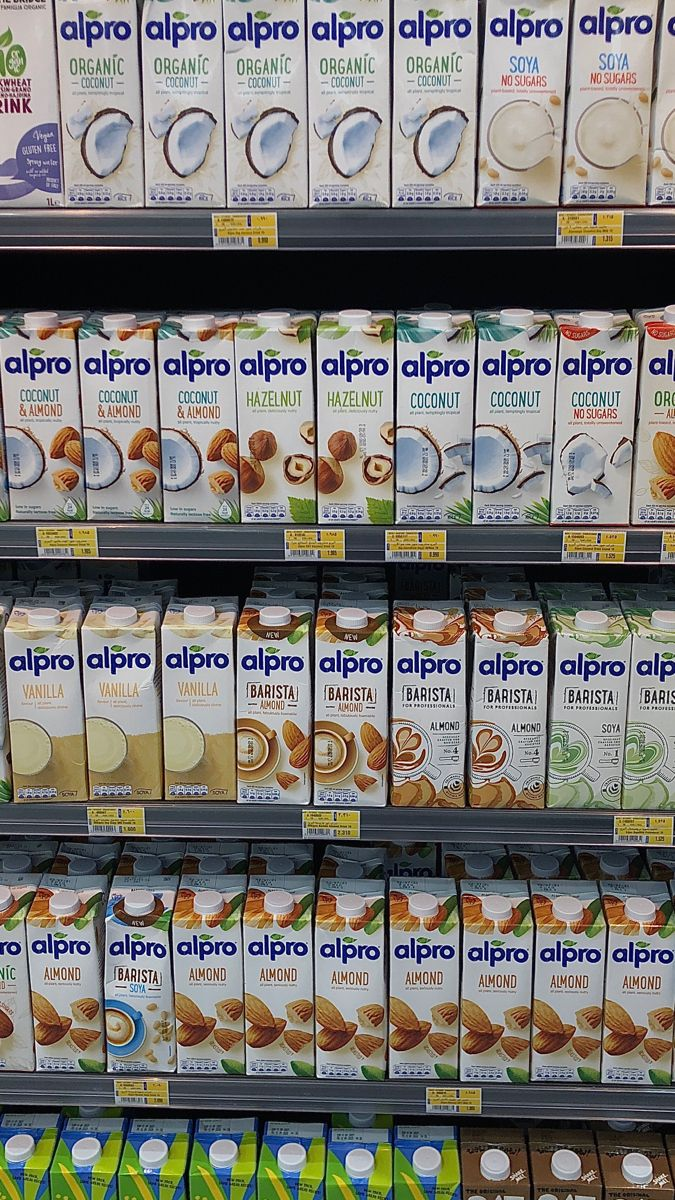milk: (155, 314, 239, 523), (225, 0, 307, 207), (397, 310, 474, 524), (83, 600, 163, 801), (390, 600, 467, 806), (100, 681, 138, 699)
